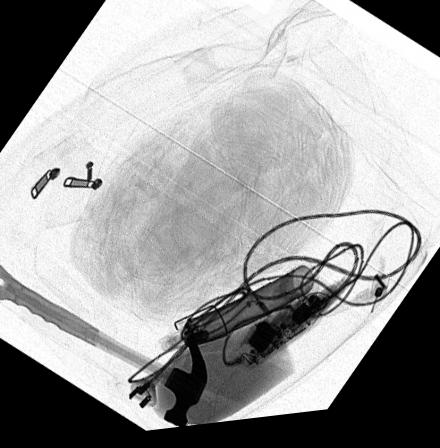Hammer: (0, 264, 207, 431)
